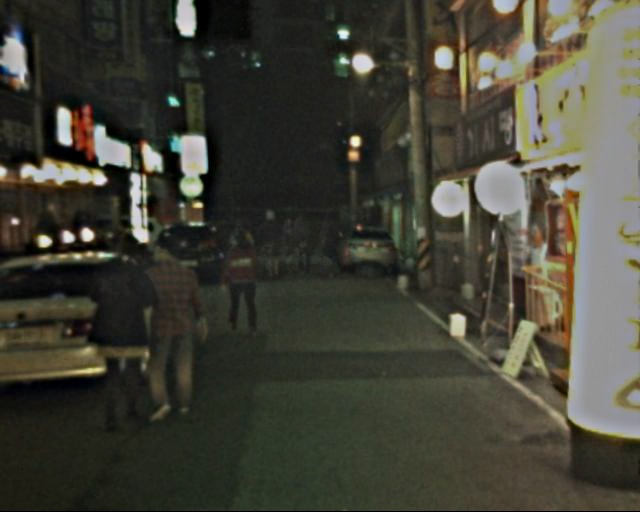person: (140, 228, 210, 427), (86, 230, 152, 432), (220, 222, 265, 336), (257, 203, 288, 282), (230, 216, 263, 289), (290, 212, 314, 281), (315, 215, 339, 278)
